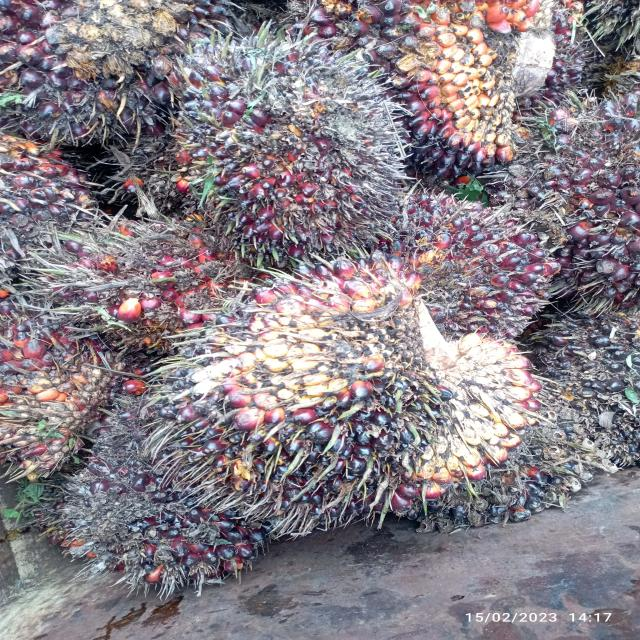fraksi 00: (137, 254, 537, 559)
fraksi 1: (169, 32, 414, 258), (50, 402, 283, 601), (410, 182, 566, 350), (521, 92, 640, 294)
